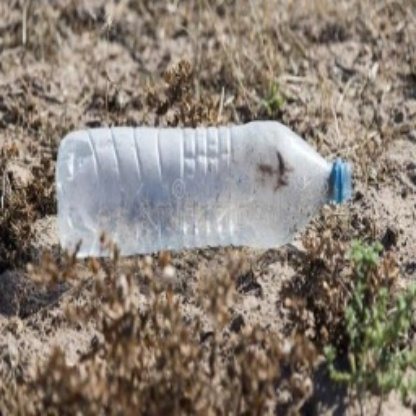bottle: (57, 127, 355, 249)
